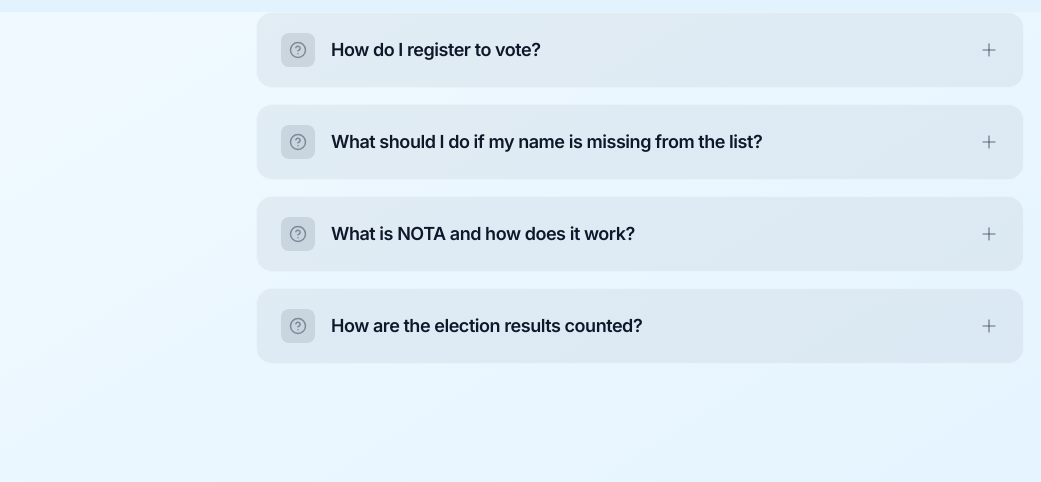
it: FAQ Component › Accordion Interaction › closes an open FAQ when clicked again (toggle)
Click the button "How do I register to vote?" at (298, 50), box [257,13,1023,87]
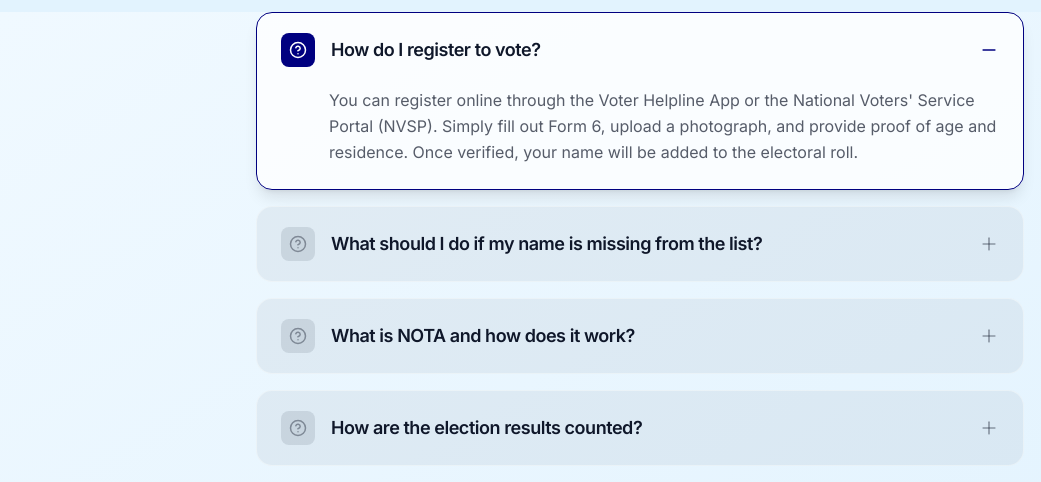
Click the button "How do I register to vote?" at (298, 50), box [257,13,1023,87]
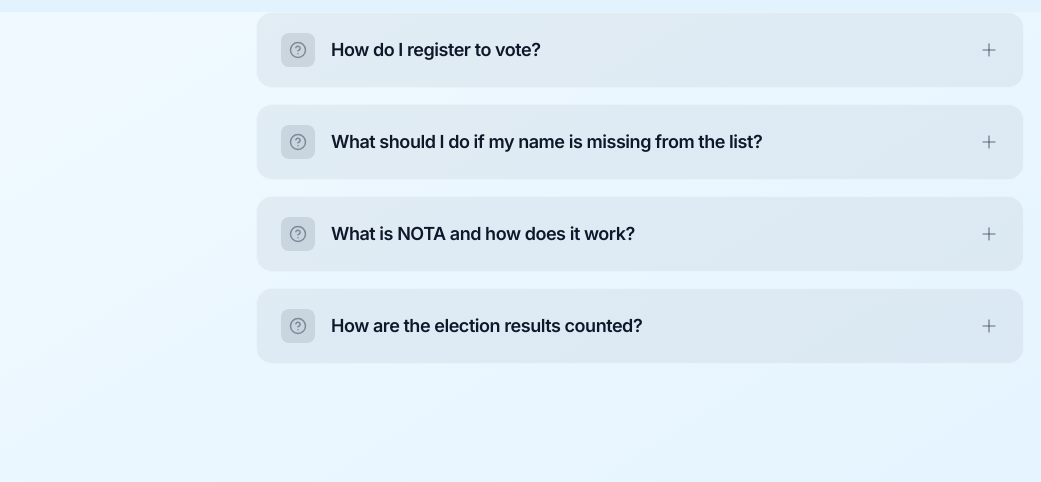
Expected: the text "You can register online through the Voter Helpline App" is gone
